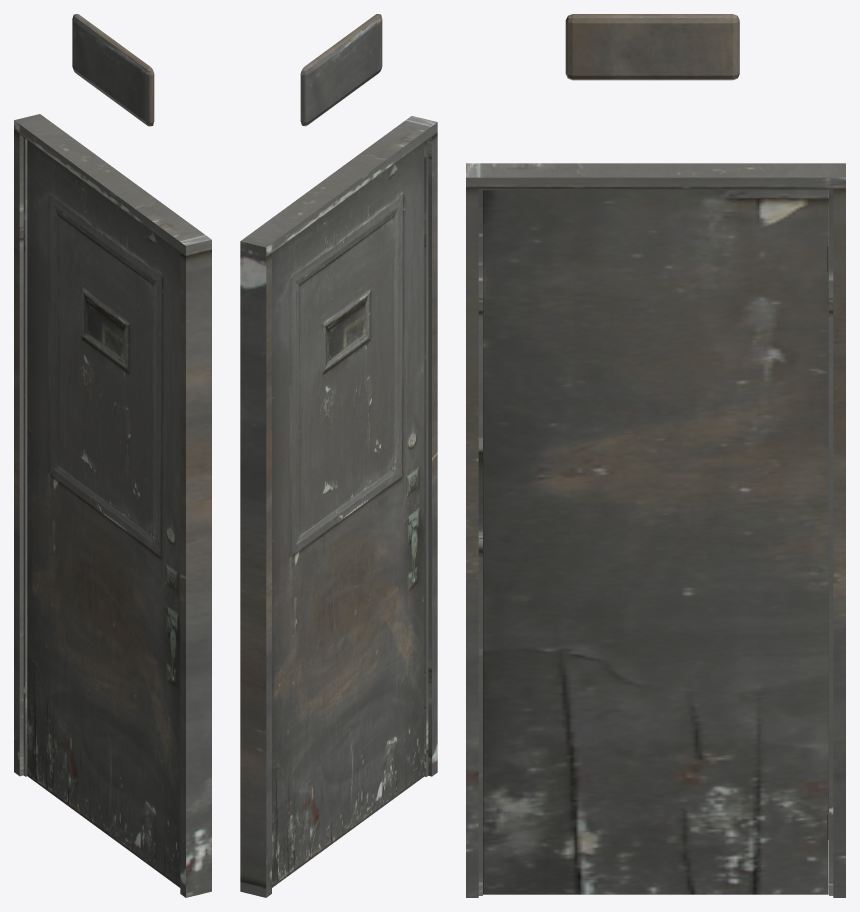
Rendered from puerta+num 1.fbx.
3 views of the same model, side by side, from view 1: azimuth 30°, elevation 25°; view 2: azimuth 150°, elevation 25°; view 3: azimuth 270°, elevation 25° (orthographic). The views are drawn at different scales.
Visible parts, largest first — view 1: Main_Low, Frame_Low, Cube; view 2: Main_Low, Frame_Low, Cube; view 3: Main_Low, Frame_Low, Cube.
Part boxes in pixels (x1=…): Main_Low: x1=27, y1=140, x2=180, y2=887; Frame_Low: x1=14, y1=114, x2=211, y2=897; Cube: x1=72, y1=14, x2=154, y2=126; Main_Low: x1=272, y1=142, x2=424, y2=887; Frame_Low: x1=240, y1=116, x2=437, y2=897; Cube: x1=300, y1=14, x2=382, y2=126; Main_Low: x1=483, y1=190, x2=828, y2=894; Frame_Low: x1=466, y1=163, x2=845, y2=897; Cube: x1=565, y1=14, x2=739, y2=80.
Bounding box in the file's own units: 47.03 × 1367 × 537.
2 materials, 2 textured.
